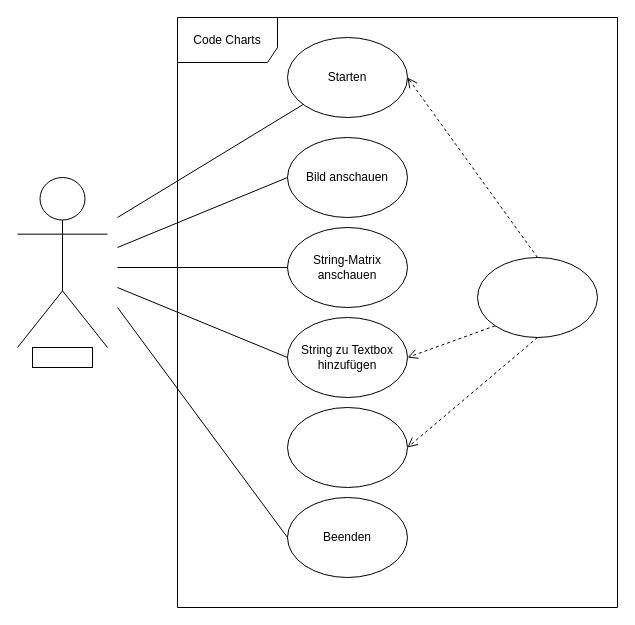
Some shapes in this 635 by 625 pixel diagram are drawn without their labels. Here are the shapes that lost their labels. From the top down, the centre of each, then its label:
At point (537, 297): "Fehler anzeigen".
At point (62, 357): "Nutzer".
At point (347, 447): "String zu String- Matrix hinzufügen".
